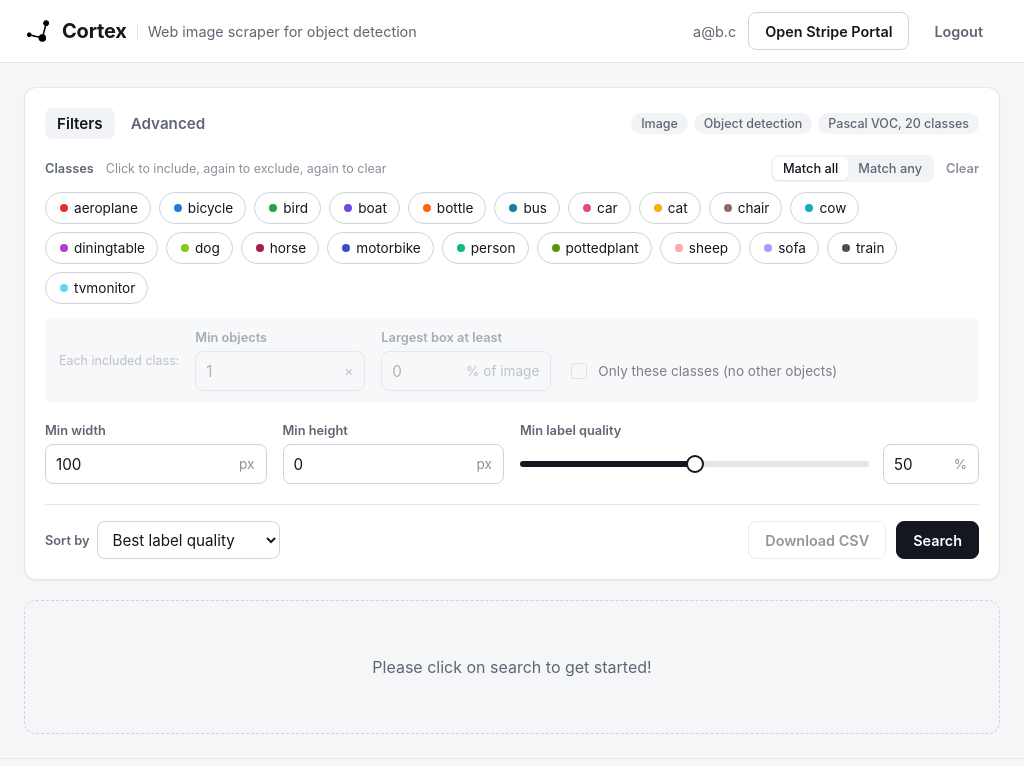
search, pagination and CSV › a stored javascript: url renders no link and no image source
Expected: the text "a@b.c" is shown, [693,22,736,40]
Step 1. Click the button "Search" → (938, 540), box [896,521,979,559]
(page scrolled)
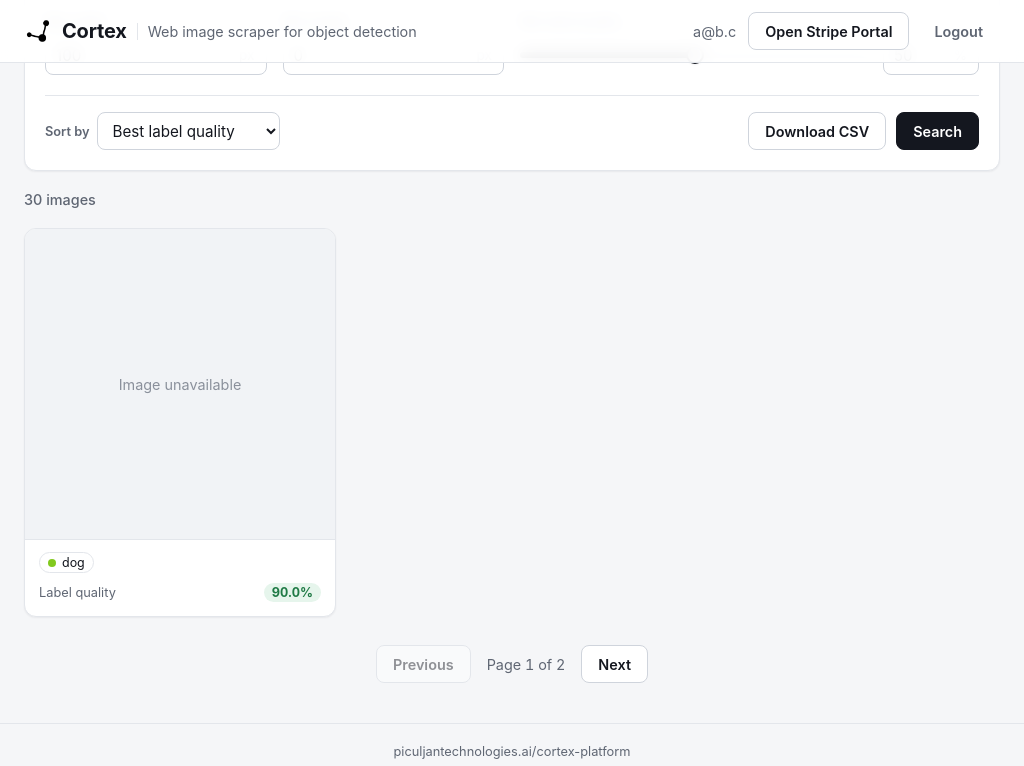
Expected: the text "Page 1 of 2" is shown, [487,656,565,672]
Expected: the text "Image unavailable" is shown, [119,376,241,392]
